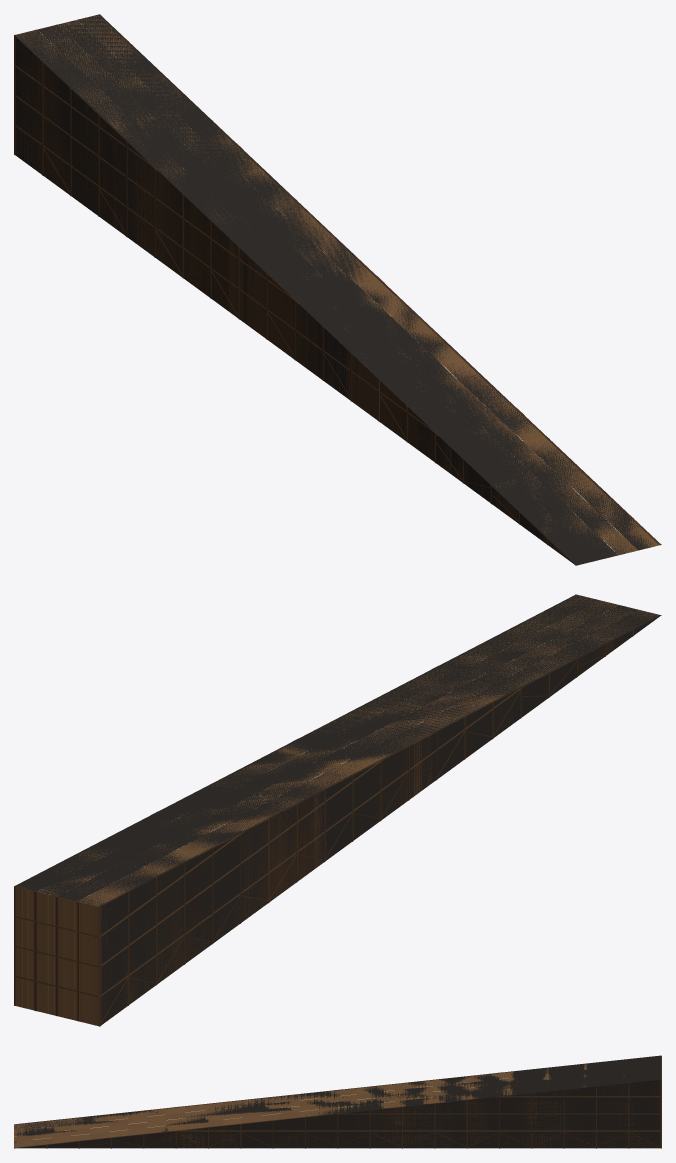
Rendered from gap_work_deck.glb.
3 renders of one model, top to bottom at view 1: azimuth 30°, elevation 25°; view 2: azimuth 150°, elevation 25°; view 3: azimuth 270°, elevation 25°, orthographic. The views are drawn at different scales.
Parts seen in each view (by area): view 1: gap_work_deck-col-col, gap_work_deck_body; view 2: gap_work_deck-col-col, gap_work_deck_body; view 3: gap_work_deck-col-col, gap_work_deck_body.
Boxes of the visible parts, x1,y1,x2,y2 form: gap_work_deck-col-col: (14,14,661,565); gap_work_deck_body: (14,14,661,565); gap_work_deck-col-col: (14,594,660,1024); gap_work_deck_body: (14,594,661,1026); gap_work_deck-col-col: (14,1055,661,1148); gap_work_deck_body: (14,1056,661,1148).
Size of the model in its own units: 24.2 by 32 by 273.
